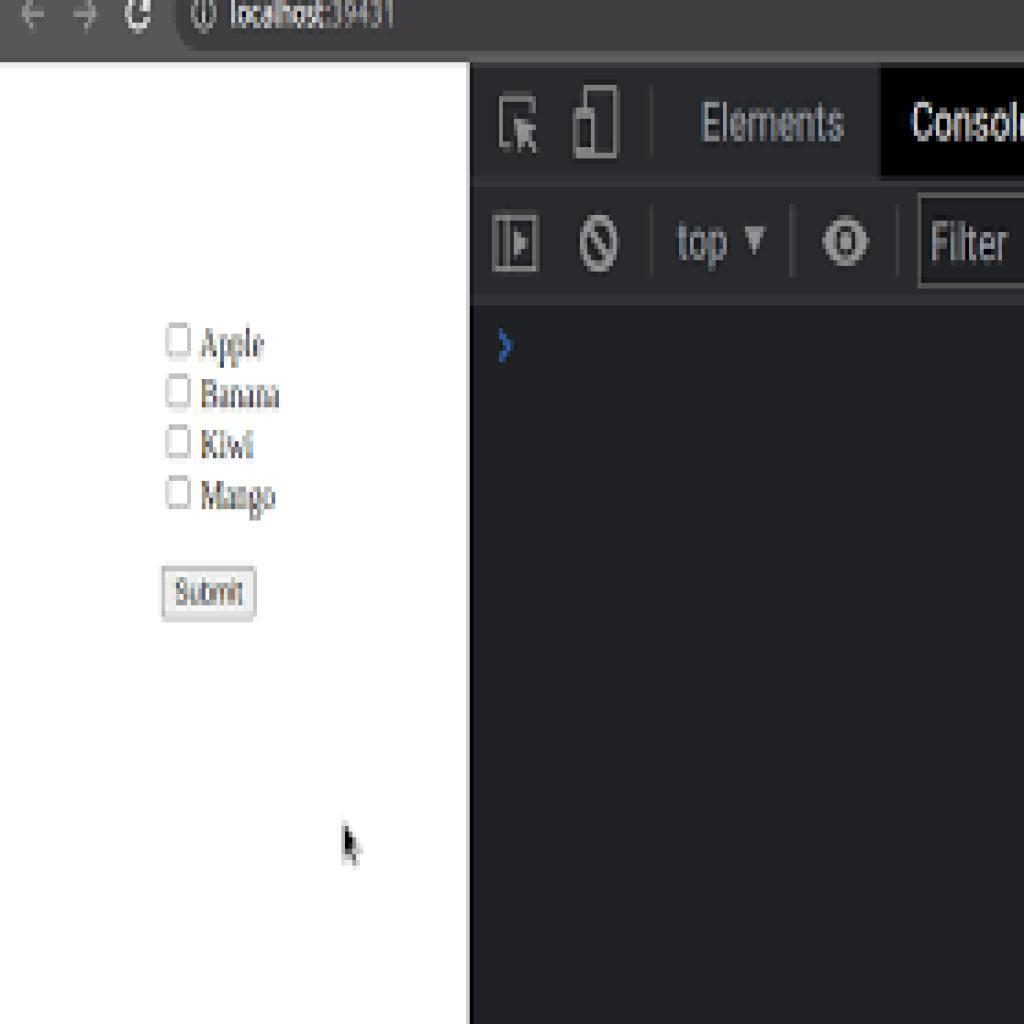button: (880, 68, 1024, 178), (161, 567, 260, 624)
checkbox: (162, 322, 196, 361), (165, 424, 195, 461), (165, 375, 194, 412), (166, 476, 194, 512)
icon: (567, 82, 627, 170), (817, 205, 880, 279), (491, 207, 548, 282), (497, 87, 546, 166), (574, 210, 624, 282), (736, 222, 776, 266)
input: (922, 192, 1024, 288)
label: (694, 95, 852, 152), (201, 477, 279, 526), (200, 374, 290, 413), (672, 220, 731, 275), (202, 324, 269, 371), (200, 430, 259, 465)
